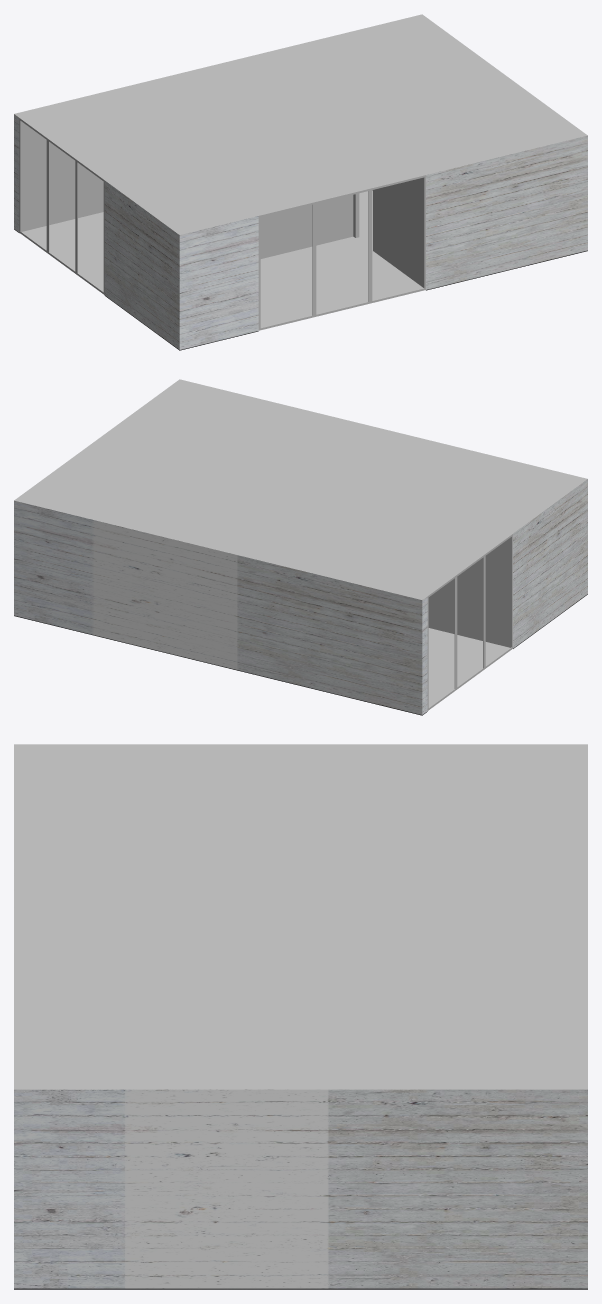
The picture shows the model from 3 angles, top to bottom: view 1: azimuth 30°, elevation 25°; view 2: azimuth 150°, elevation 25°; view 3: azimuth 270°, elevation 25°; orthographic projection. The views are drawn at different scales.
Parts seen in each view (by area): view 1: Ceiling_object_90, Exterior_Wall_1_object_88, Interior_Wall_object_45, object_1.004, Frame2_object_52; view 2: Ceiling_object_90, Exterior_Wall_1_object_88, Interior_Wall_object_45, object_1.004, Frame2_object_52; view 3: Ceiling_object_90, Exterior_Wall_1_object_88.
Boxes of the visible parts, left/top/right/bottom form: Ceiling_object_90: left=14, top=14, right=587, bottom=234; Exterior_Wall_1_object_88: left=14, top=114, right=587, bottom=350; Interior_Wall_object_45: left=19, top=121, right=423, bottom=287; object_1.004: left=22, top=190, right=423, bottom=327; Frame2_object_52: left=19, top=118, right=425, bottom=330; Ceiling_object_90: left=14, top=379, right=587, bottom=599; Exterior_Wall_1_object_88: left=14, top=479, right=587, bottom=715; Interior_Wall_object_45: left=428, top=537, right=511, bottom=647; object_1.004: left=428, top=628, right=510, bottom=707; Frame2_object_52: left=342, top=419, right=512, bottom=710; Ceiling_object_90: left=14, top=744, right=587, bottom=1089; Exterior_Wall_1_object_88: left=14, top=1089, right=587, bottom=1289.
Bounding box in the file's own units: 37 × 10 × 26.
